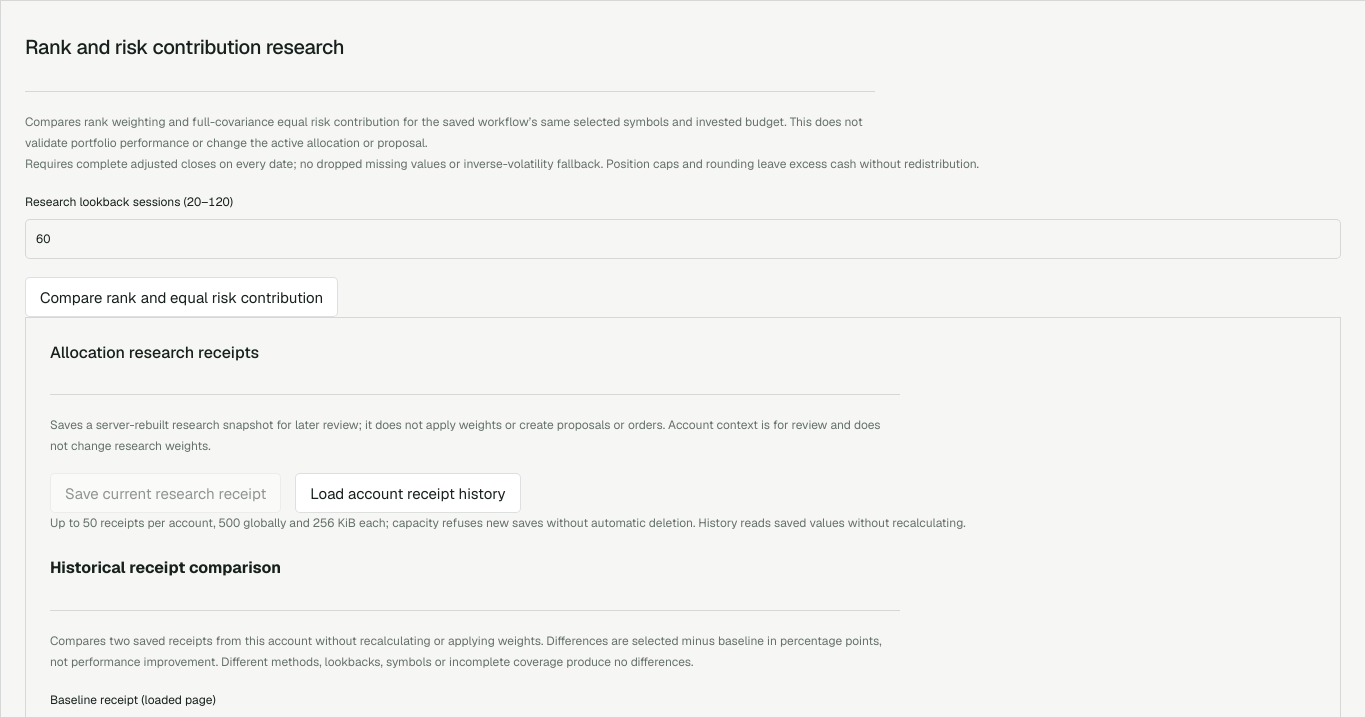
rejects invalid lookback  without sending a calculation
Step 1. Clear the number field labelled "Research lookback sessions (20–120)" → {"x": 683, "y": 239}, box [25, 219, 1341, 259]
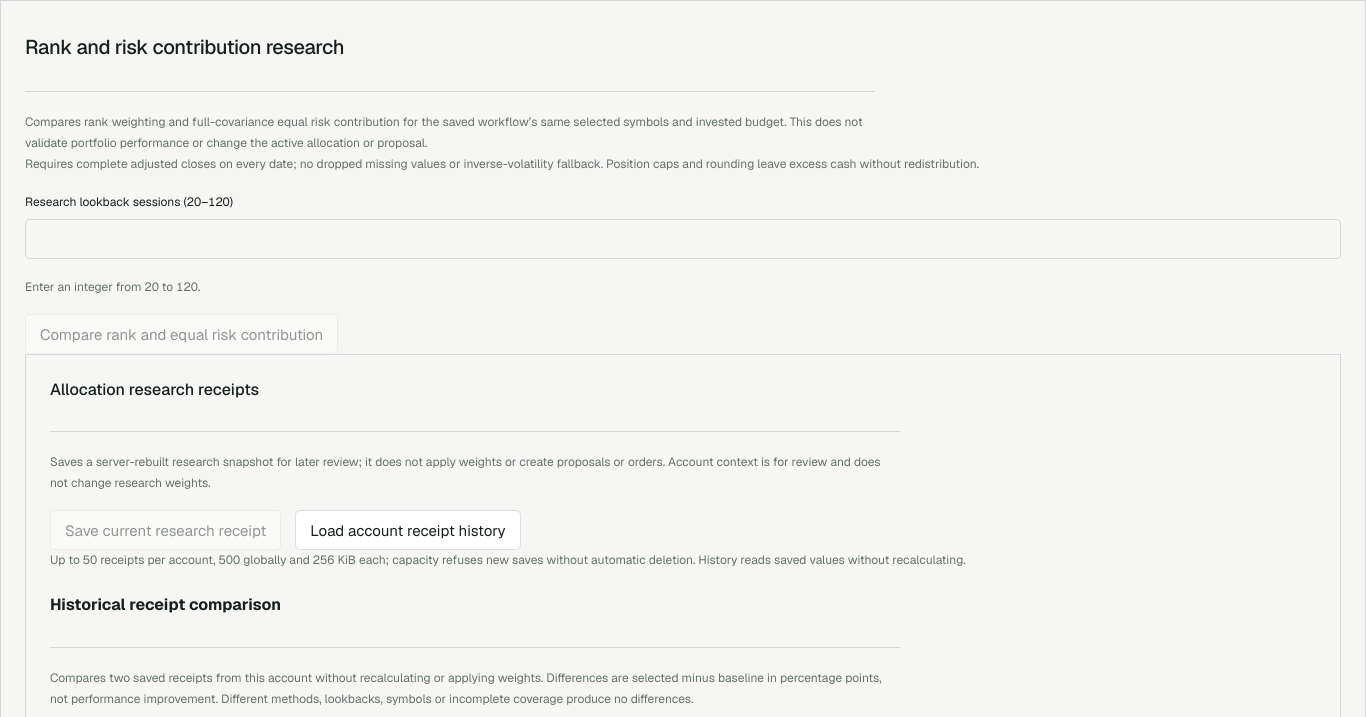
Expected: the button "Compare rank and equal risk contribution" is disabled, [25, 314, 338, 354]
Expected: the message reads "Enter an integer from 20 to 120.", [25, 279, 200, 295]
